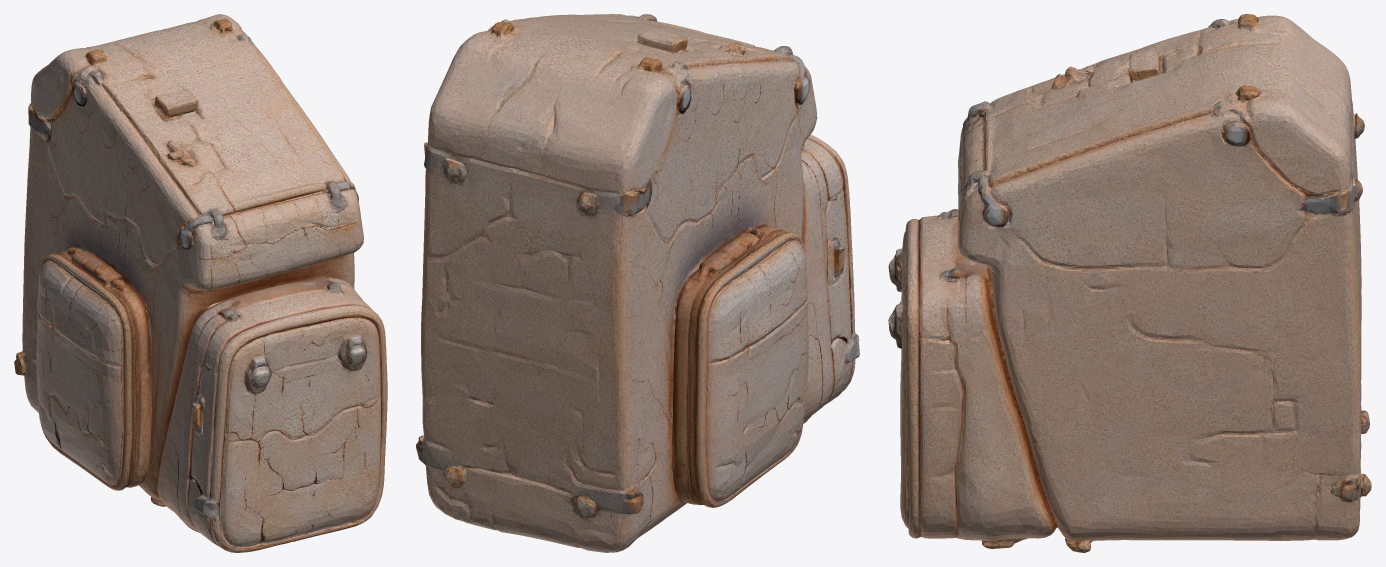
File: head (152).glb
3 views of the same model, side by side, from view 1: azimuth 30°, elevation 25°; view 2: azimuth 150°, elevation 25°; view 3: azimuth 270°, elevation 25° (orthographic). The views are drawn at different scales.
Visible parts, largest first — view 1: Hy21_Mesh.obj; view 2: Hy21_Mesh.obj; view 3: Hy21_Mesh.obj.
Boxes of the visible parts, <box> form: Hy21_Mesh.obj: <box>14,14,387,552</box>; Hy21_Mesh.obj: <box>416,14,859,552</box>; Hy21_Mesh.obj: <box>888,14,1371,552</box>.
Bounding box in the file's own units: 1.14 × 1.96 × 1.86.
1 material, 1 textured.
